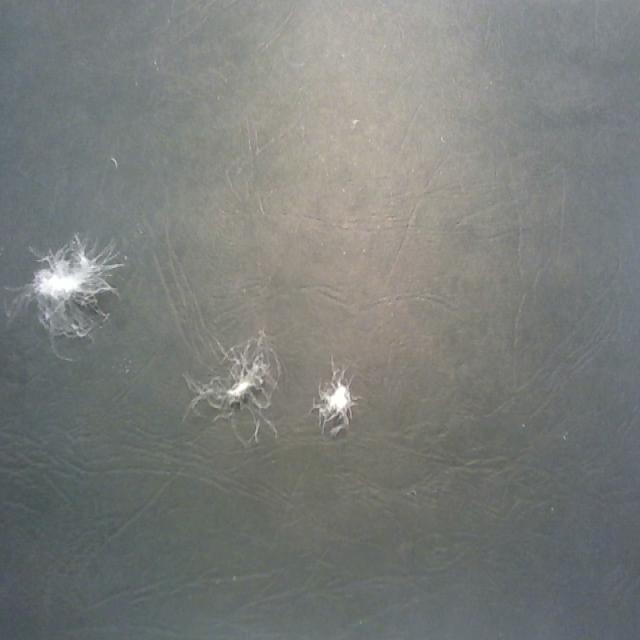feather: (19, 229, 129, 352), (182, 331, 281, 441), (313, 364, 363, 435)
